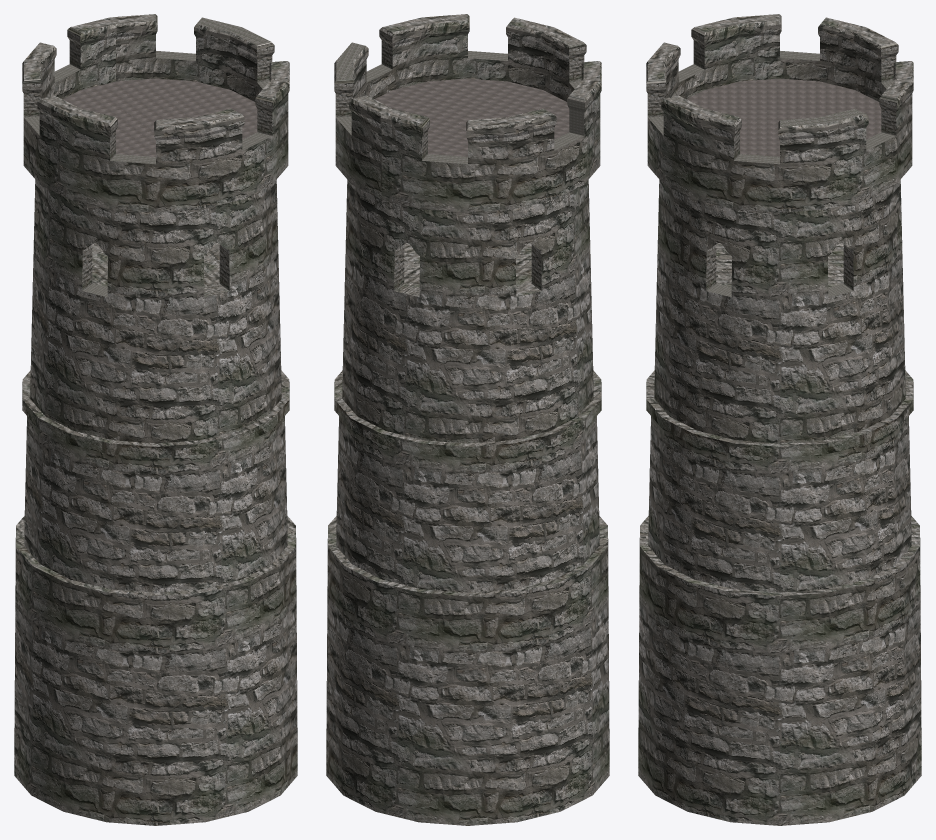
The model's file is fancy_tower.FBX.
3 views of the same model, side by side, from view 1: azimuth 30°, elevation 25°; view 2: azimuth 150°, elevation 25°; view 3: azimuth 270°, elevation 25° (orthographic).
Visible parts, largest first — view 1: Entrance Tower Right, FancyTower; view 2: Entrance Tower Right, FancyTower; view 3: Entrance Tower Right, FancyTower.
Boxes of the visible parts, <box> form: Entrance Tower Right: <box>14,180,297,825</box>; FancyTower: <box>22,14,289,212</box>; Entrance Tower Right: <box>326,180,609,825</box>; FancyTower: <box>334,14,601,212</box>; Entrance Tower Right: <box>638,180,921,825</box>; FancyTower: <box>646,14,913,212</box>.
Bounding box in the file's own units: 2270 × 6048 × 2236.
